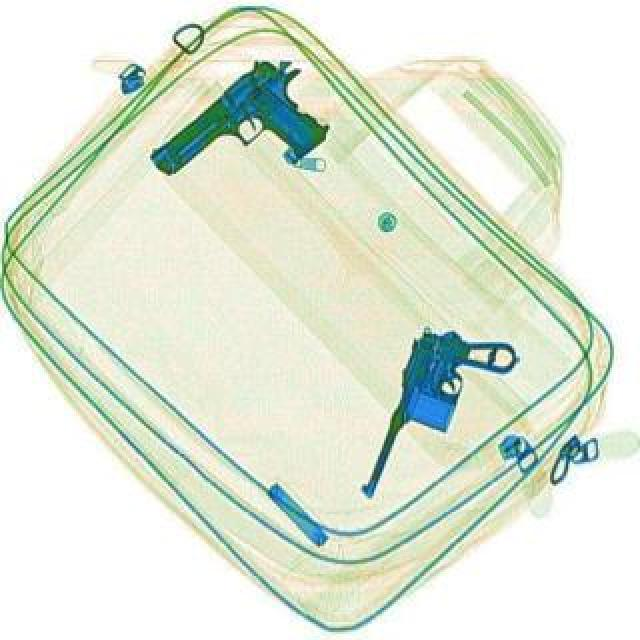gun: (140, 48, 346, 230), (358, 322, 518, 530)
